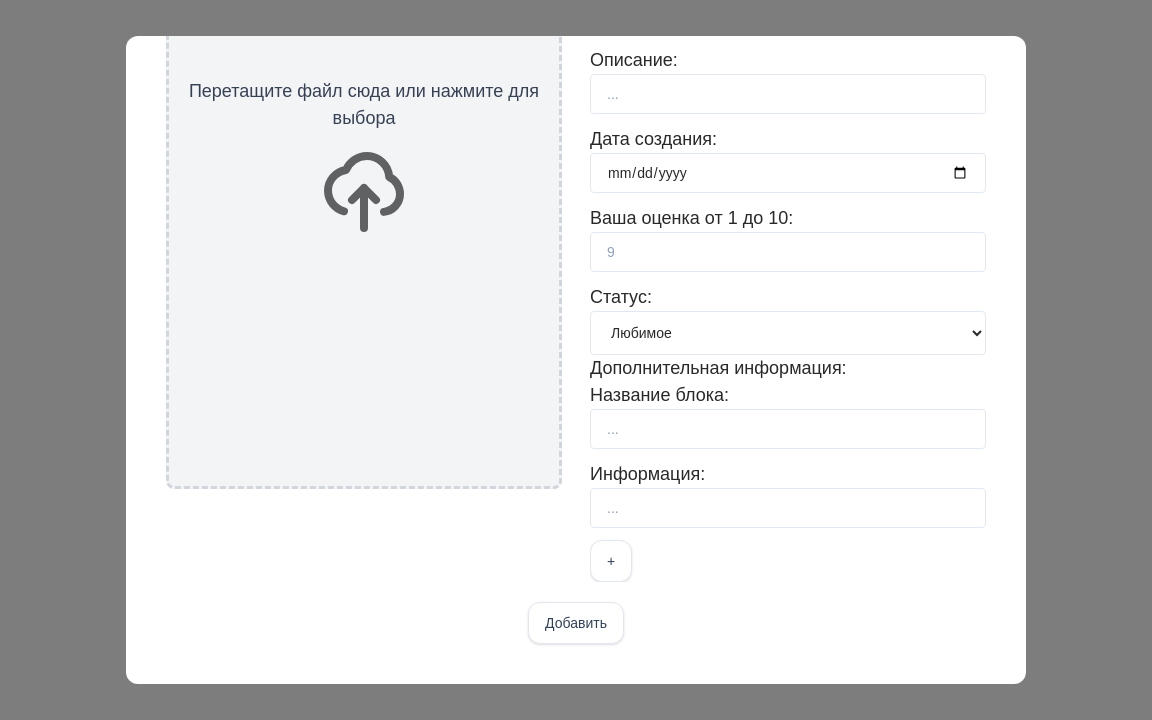
Test: ModalMediaEditor › Дополнительная информация › добавляет новые поля при клике на "+"
(page scrolled)
Check: the text "Название блока:" is shown once, box [590,385,729,405]
Click the button "+": (611, 561) [590,540,632,582]
(page scrolled)
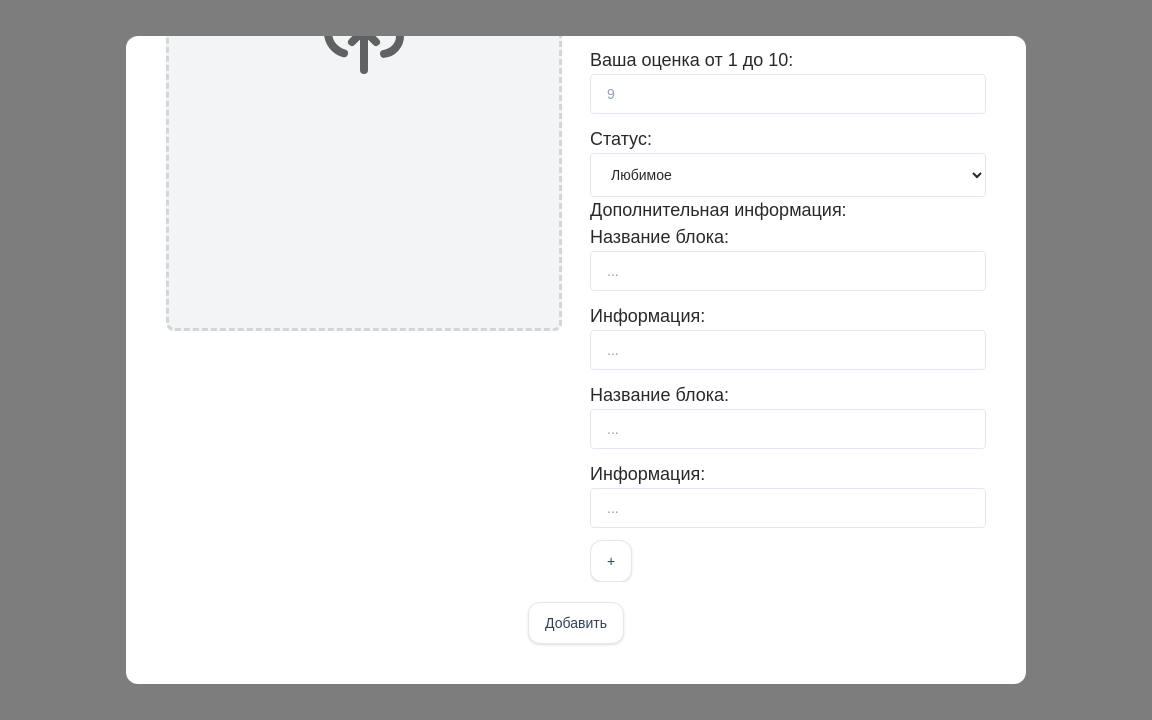
Check: the text "Название блока:" is shown 2 times, box [590,227,729,247]; [590,385,729,405]
Click the button "+": (611, 561) [590,540,632,582]
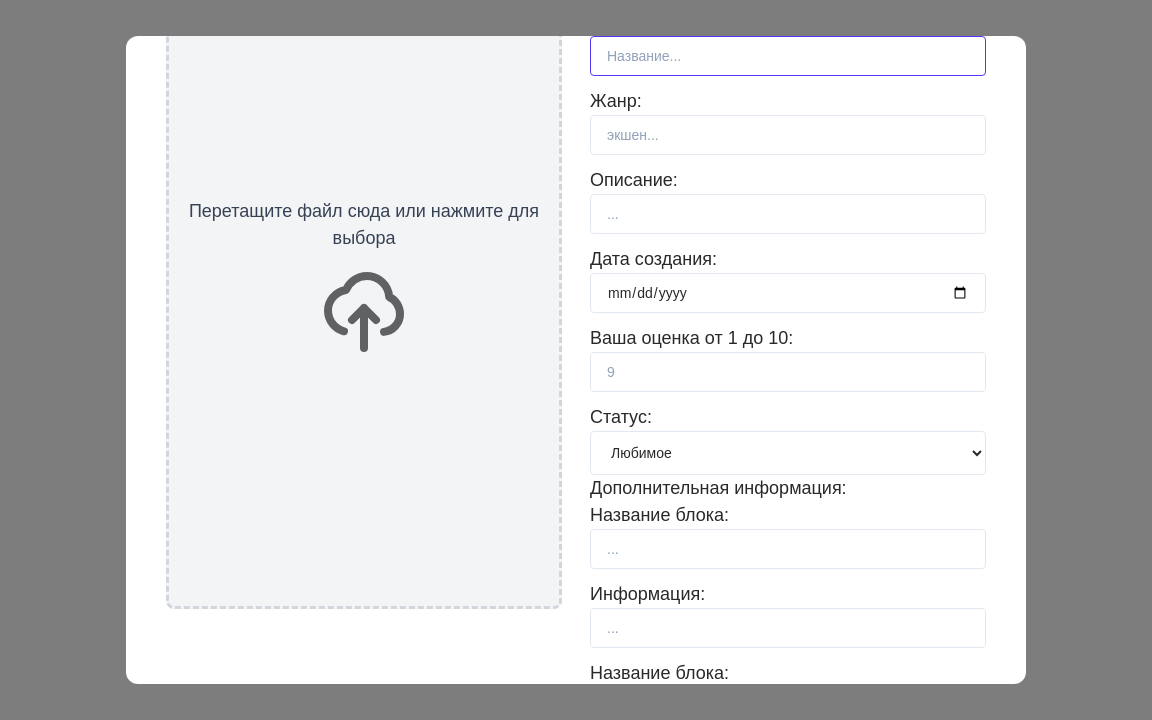
Check: the text "Название блока:" is shown 3 times
